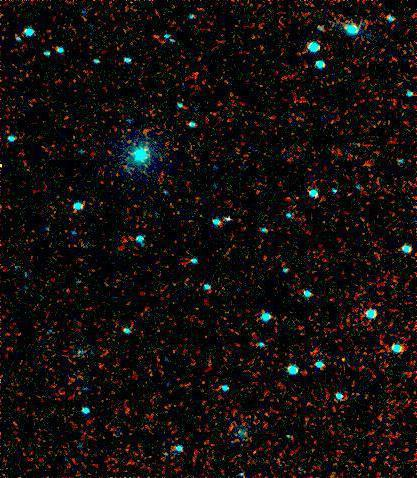star: (329, 345, 359, 375)
